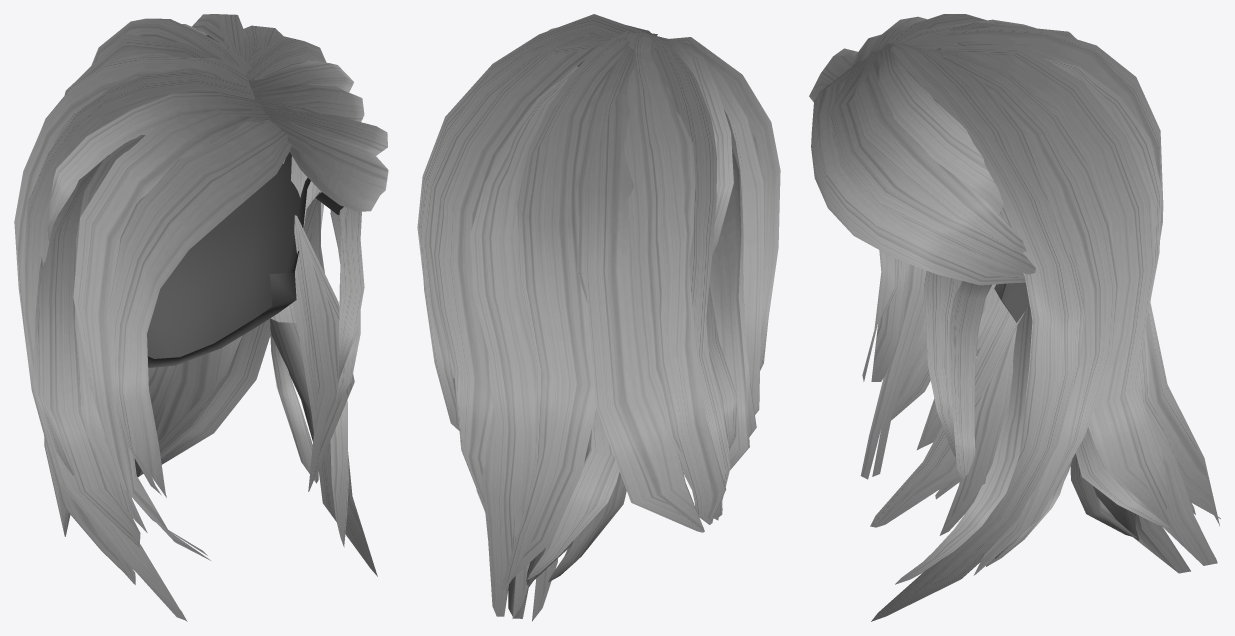
File: PELOS.fbx
3 renders of one model, left to right at view 1: azimuth 30°, elevation 25°; view 2: azimuth 150°, elevation 25°; view 3: azimuth 270°, elevation 25°, orthographic. The views are drawn at different scales.
Visible parts, largest first — view 1: FRR_M_07, FRR_F_07; view 2: FRR_M_07, FRR_F_07; view 3: FRR_M_07, FRR_F_07.
Boxes of the visible parts, <box> form: FRR_M_07: <box>14,14,388,621</box>; FRR_F_07: <box>59,225,316,536</box>; FRR_M_07: <box>417,14,780,618</box>; FRR_F_07: <box>508,273,697,621</box>; FRR_M_07: <box>809,14,1220,621</box>; FRR_F_07: <box>961,453,1190,578</box>.
Size of the model in its own units: 19.74 by 32.39 by 22.02.
